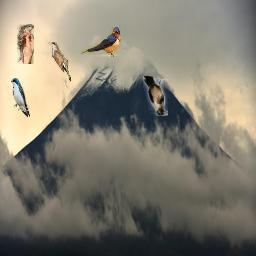Crow: (143, 76, 168, 116)
Cuckoo: (48, 42, 71, 82), (17, 24, 34, 64)
Swallow: (81, 27, 121, 57), (11, 78, 30, 118)
